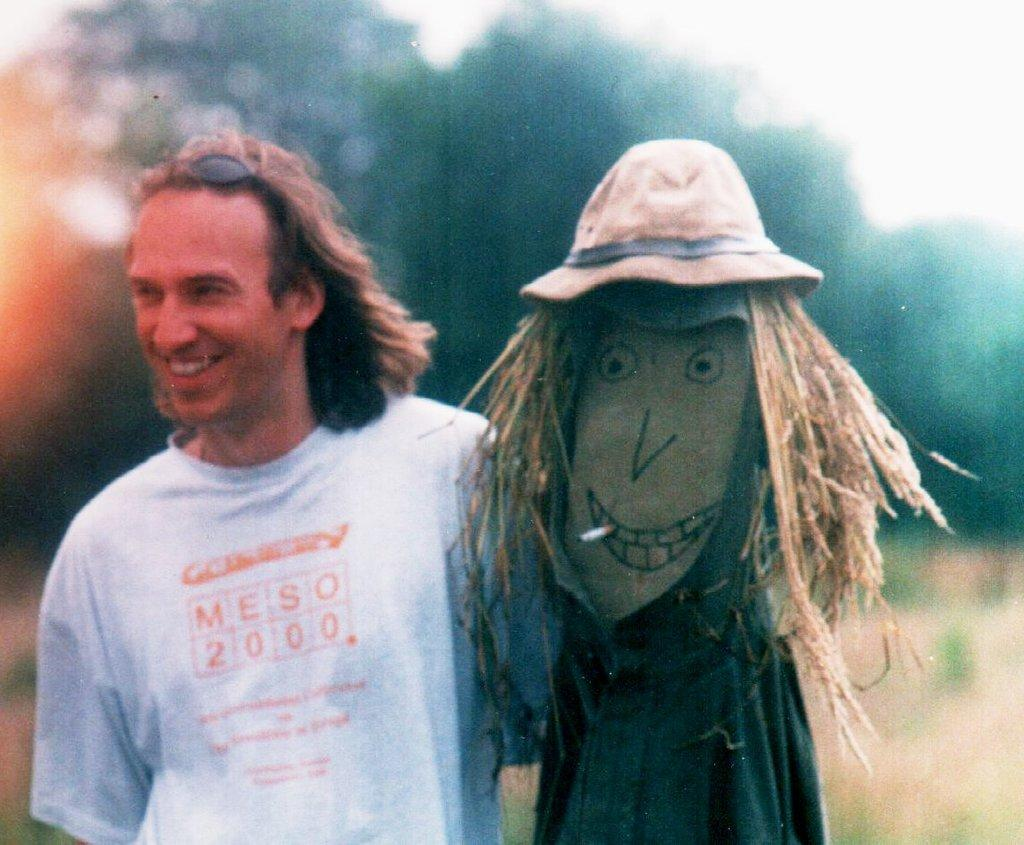Hat: (522, 134, 819, 304)
